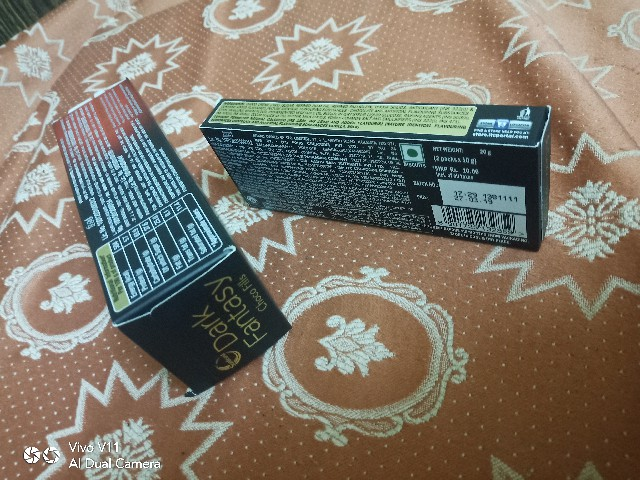darkfantasy big: (27, 70, 276, 393)
darkfantasy small: (202, 81, 567, 254)
